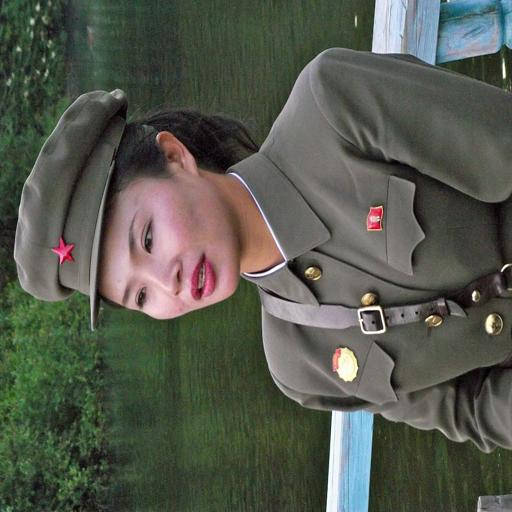north army: (5, 17, 512, 512)
